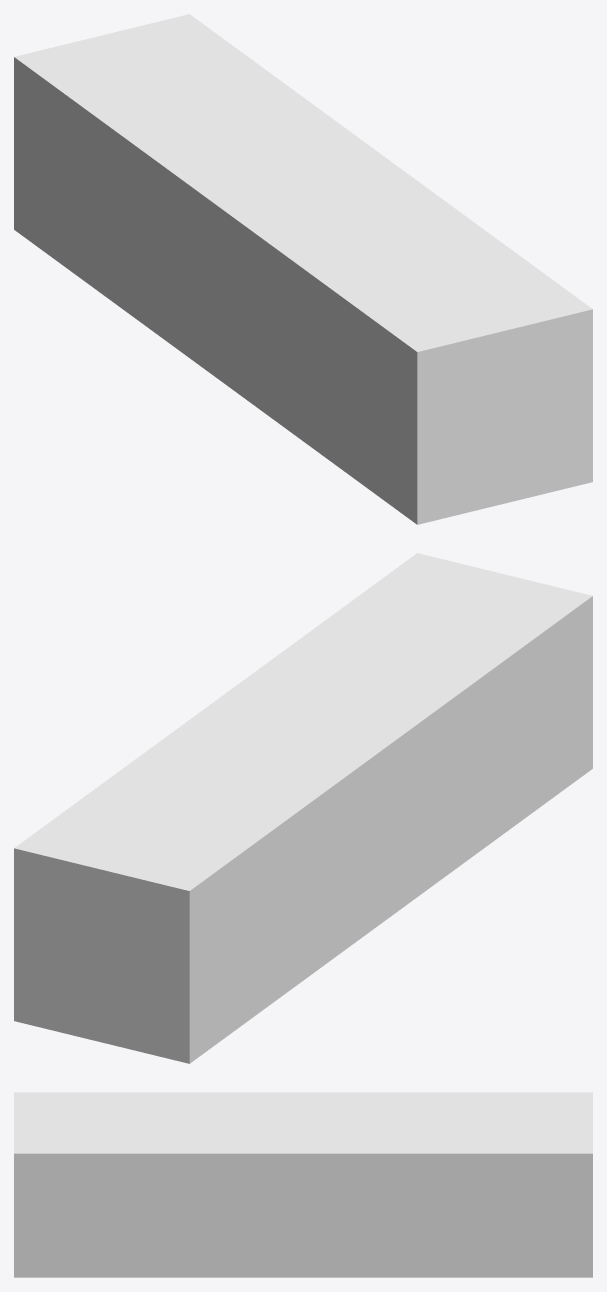
Rendered from geruest2.obj.
3 views of the same model, one above another, from view 1: azimuth 30°, elevation 25°; view 2: azimuth 150°, elevation 25°; view 3: azimuth 270°, elevation 25° (orthographic). The views are drawn at different scales.
Parts seen in each view (by area): view 1: cube2_copy106, cube2_copy109, cube2_copy107, cube2_copy108; view 2: cube2_copy109, cube2_copy106, cube2_copy107, cube2_copy108; view 3: cube2_copy109, cube2_copy107, cube2_copy108, cube2_copy106.
Boxes of the visible parts, left/top/right/bottom form: cube2_copy106: left=316, top=235, right=592, bottom=524; cube2_copy109: left=14, top=14, right=290, bottom=303; cube2_copy107: left=215, top=162, right=491, bottom=450; cube2_copy108: left=115, top=88, right=391, bottom=376; cube2_copy109: left=14, top=774, right=290, bottom=1063; cube2_copy106: left=317, top=553, right=592, bottom=842; cube2_copy107: left=216, top=627, right=491, bottom=915; cube2_copy108: left=115, top=700, right=391, bottom=989; cube2_copy109: left=447, top=1092, right=592, bottom=1277; cube2_copy107: left=158, top=1092, right=303, bottom=1277; cube2_copy108: left=303, top=1092, right=448, bottom=1277; cube2_copy106: left=14, top=1092, right=159, bottom=1277.
Size of the model in its own units: 28.09 by 26.4 by 112.
Materials: 1 (1 with a texture image).
